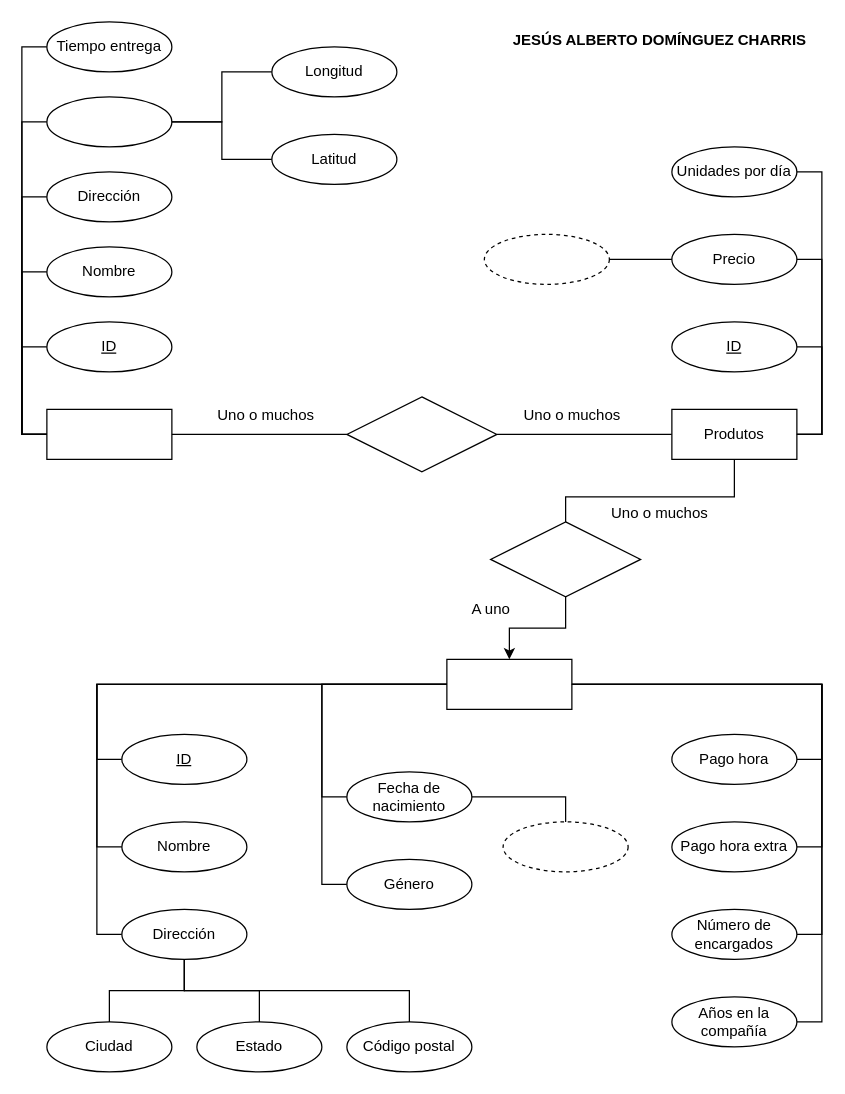
This 845x1094 diagram has some shape labels left out. The shapes that lost their labels are listed below. From the top down, each one's centre as x and y in pixels, then its label:
the point at 109,121: Ubicación
the point at 546,258: IVA
the point at 109,433: Clientes
the point at 421,434: Ordenar
the point at 565,559: Producir
the point at 509,683: Empleados
the point at 565,846: Edad
